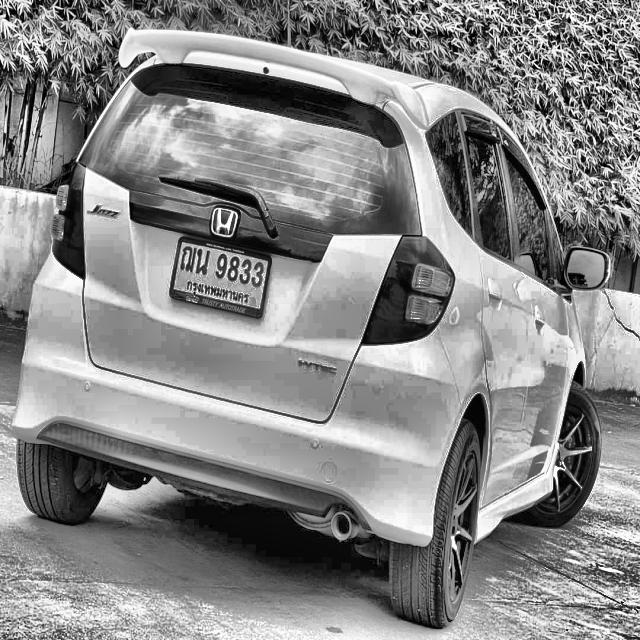license-plate: (168, 235, 274, 322)
